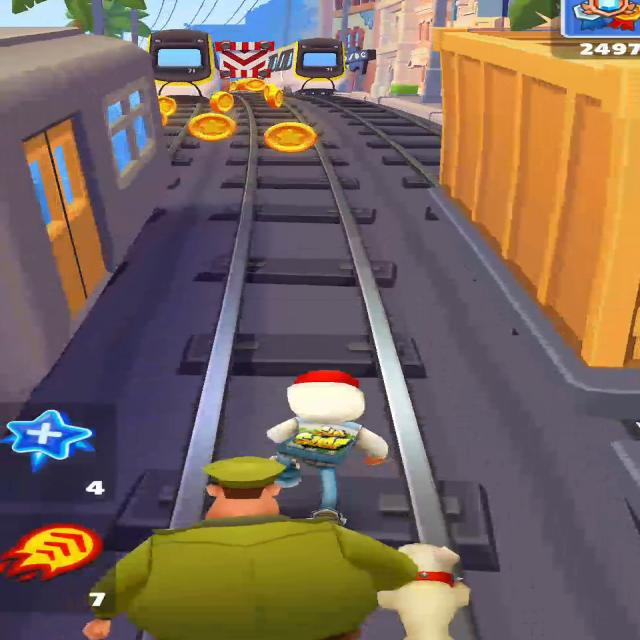jump-barrier: (216, 41, 277, 80)
police: (87, 455, 421, 640)
train: (427, 32, 636, 389), (5, 33, 168, 417), (141, 28, 220, 97), (284, 35, 351, 88)
